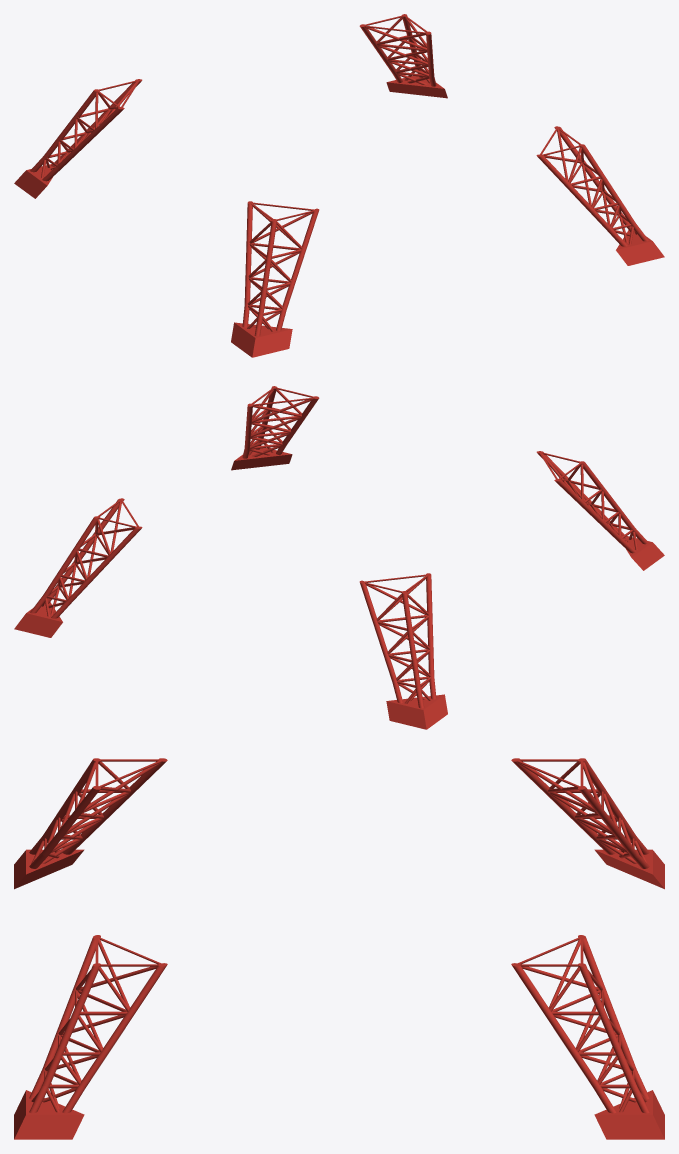
The picture shows the model from 3 angles, top to bottom: view 1: azimuth 30°, elevation 25°; view 2: azimuth 150°, elevation 25°; view 3: azimuth 270°, elevation 25°; orthographic projection. The views are drawn at different scales.
Visible parts, largest first — view 1: H2; view 2: H2; view 3: H2.
Boxes of the visible parts, x1,y1,x2,y2 form: H2: [14, 14, 664, 357]; H2: [14, 386, 664, 729]; H2: [14, 758, 664, 1139].
Size of the model in its own units: 88.6 by 21 by 88.6.
